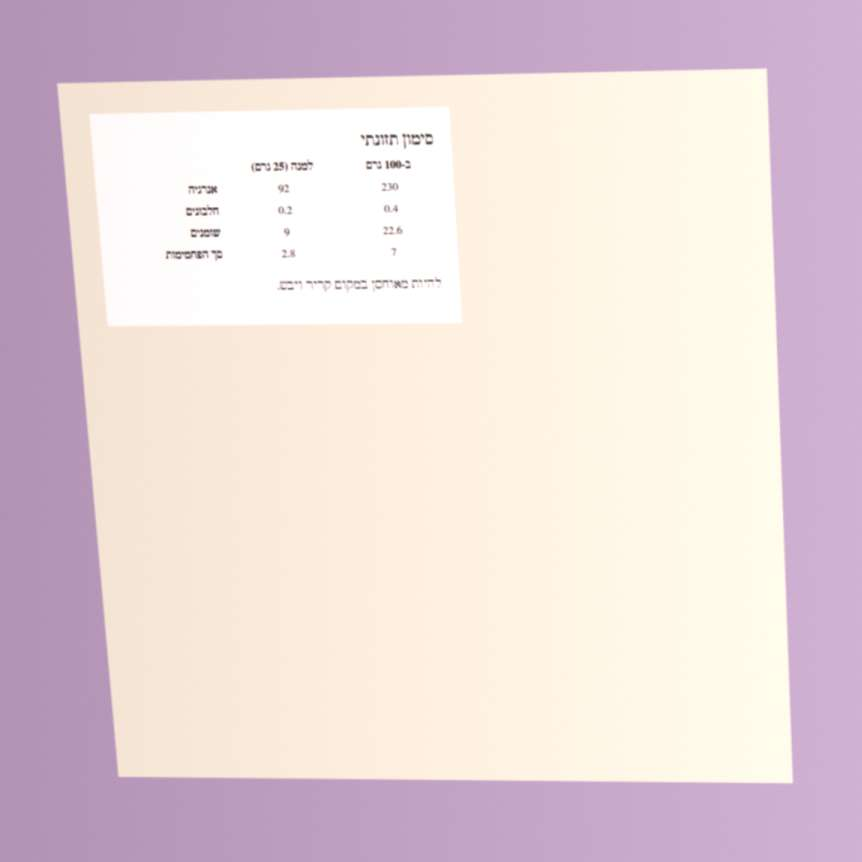carbs: (389, 245, 399, 259)
energy: (379, 179, 400, 194)
fat: (381, 223, 404, 238)
protein: (382, 201, 400, 216)
